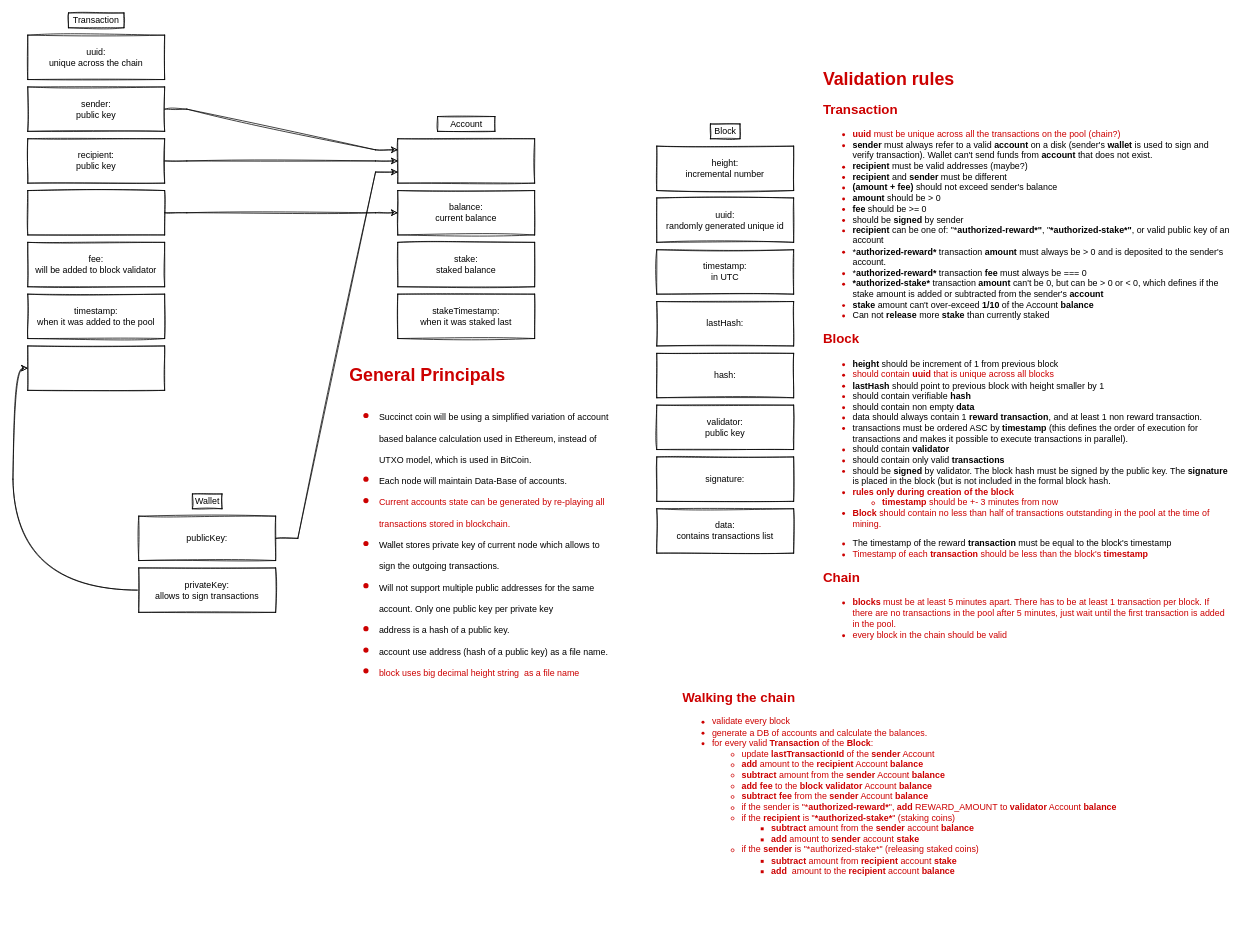
Some shapes in this 1247 by 944 pixel diagram are drawn without their labels. Each missing label, with the box of its shape:
amount: should not exceed sender's account balance: (27, 190, 165, 235)
publicKey: (397, 138, 535, 183)
signature: confirms sender: (27, 345, 165, 390)
